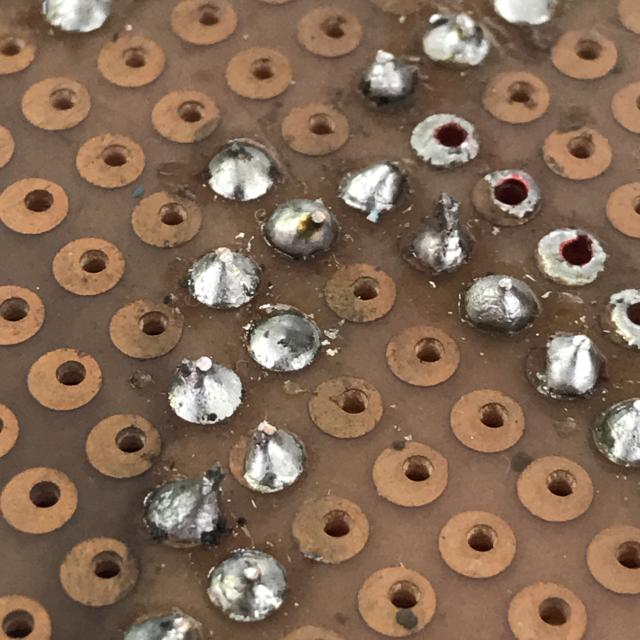good: (200, 540, 297, 629), (239, 302, 330, 382), (200, 128, 286, 211), (180, 238, 269, 318)
pad_less: (389, 191, 486, 288), (516, 321, 616, 413), (220, 411, 315, 505)
